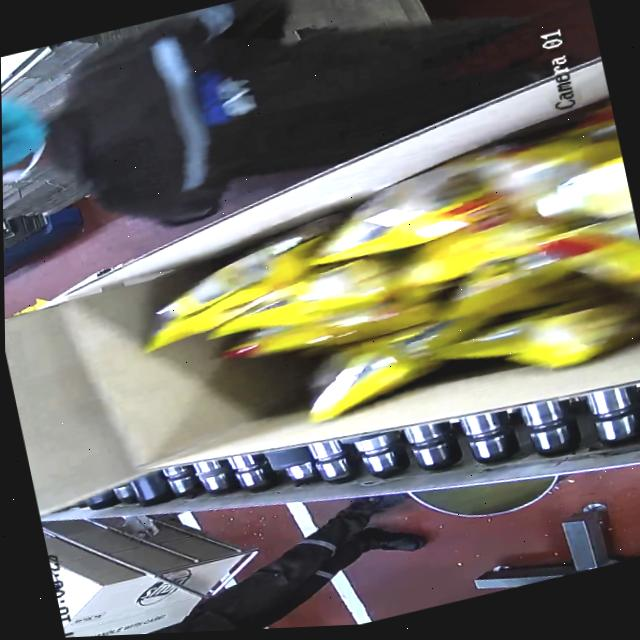SALTED: (123, 115, 640, 474)
